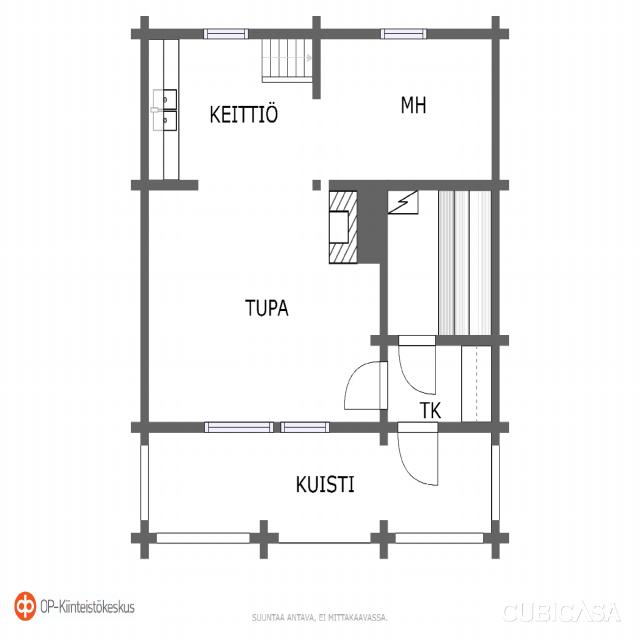door: (398, 422, 437, 484), (343, 361, 388, 409), (399, 335, 435, 394)
